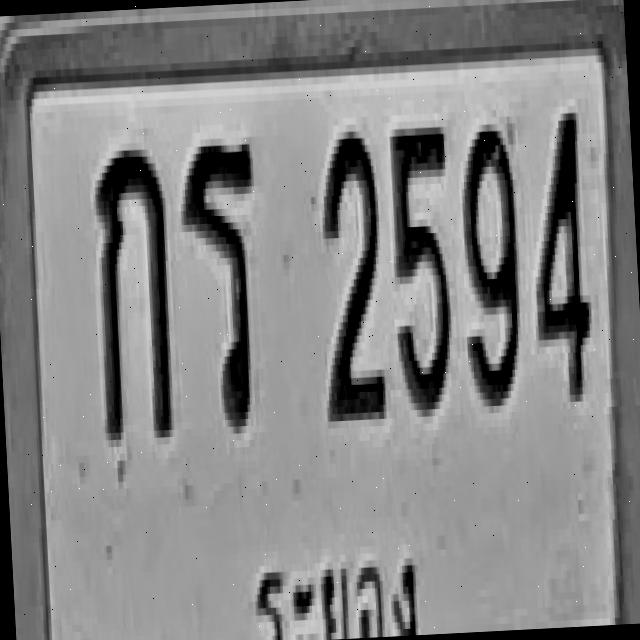10GorGai: (89, 142, 176, 441)
2: (314, 124, 388, 422)
4: (526, 106, 594, 404)
44RorRuea: (179, 137, 268, 436)
5: (386, 120, 458, 418)
9: (456, 116, 524, 408)
Rayong: (244, 529, 425, 640)
